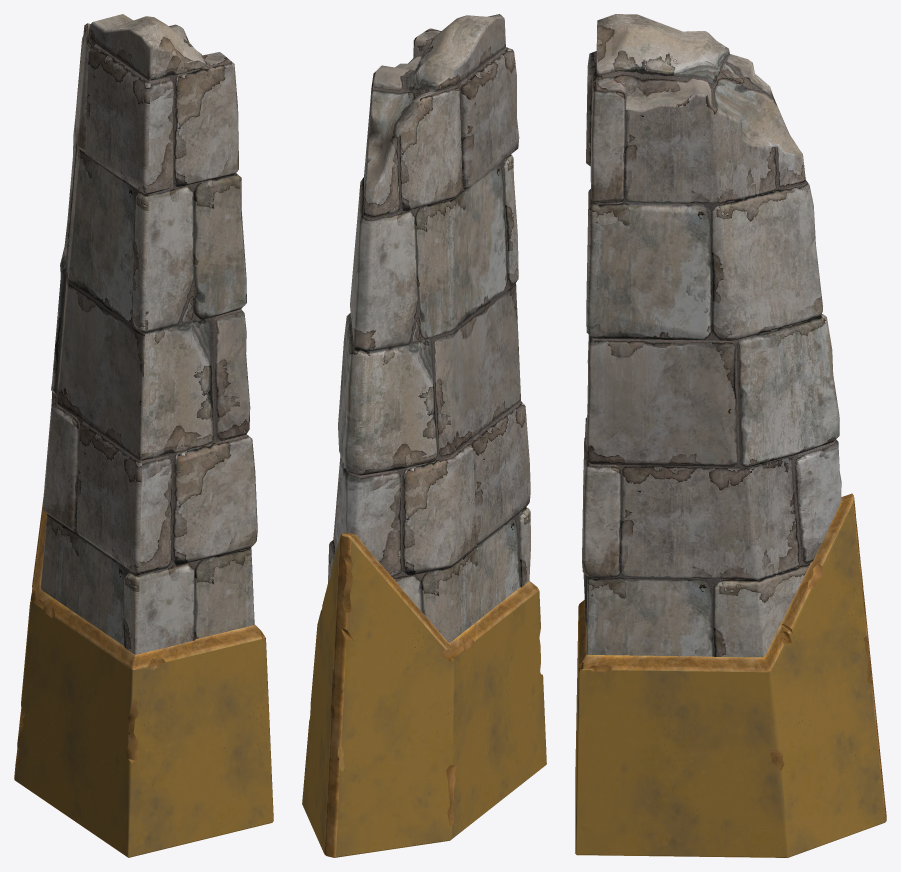
The picture shows the model from 3 angles, left to right: view 1: azimuth 30°, elevation 25°; view 2: azimuth 150°, elevation 25°; view 3: azimuth 270°, elevation 25°; orthographic projection. The views are drawn at different scales.
Visible parts, largest first — view 1: SM_Dragons_Lair_Pillar_Dmg_01v1_LOD0; view 2: SM_Dragons_Lair_Pillar_Dmg_01v1_LOD0; view 3: SM_Dragons_Lair_Pillar_Dmg_01v1_LOD0.
Boxes of the visible parts, box(x1,y1,x2,y2) form: SM_Dragons_Lair_Pillar_Dmg_01v1_LOD0: box(14, 14, 273, 857); SM_Dragons_Lair_Pillar_Dmg_01v1_LOD0: box(302, 14, 546, 857); SM_Dragons_Lair_Pillar_Dmg_01v1_LOD0: box(575, 14, 886, 857).
Bounding box in the file's own units: 3.17 × 15.33 × 5.49.
3 materials, 3 textured.
